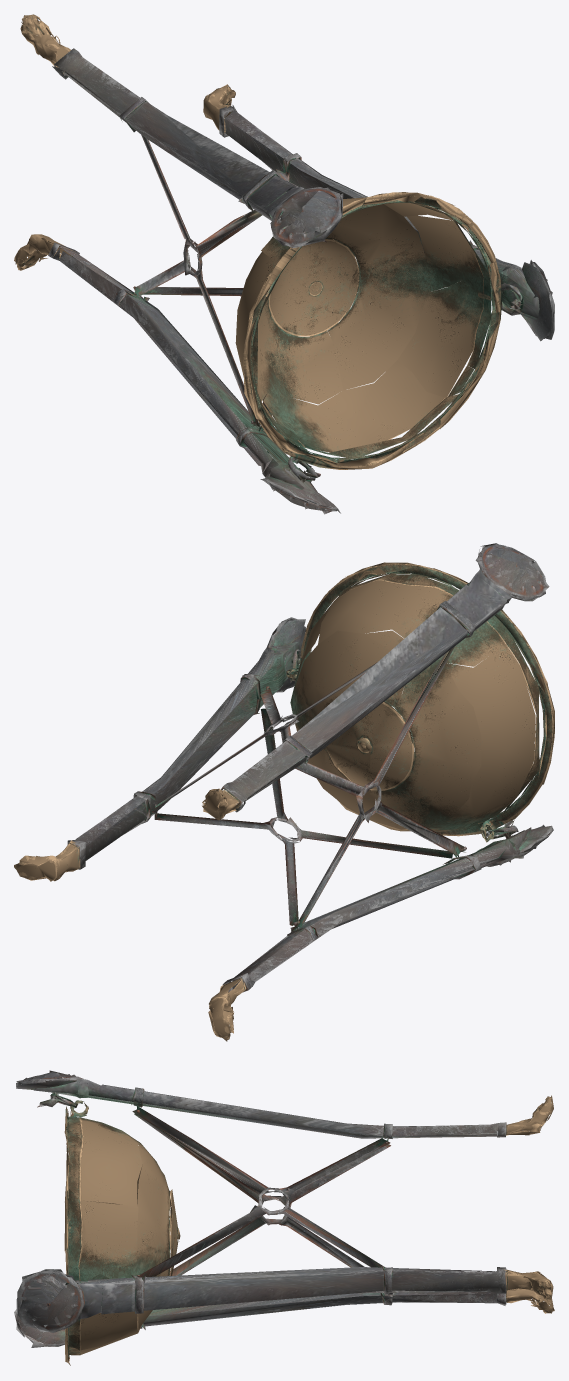
The model's file is brazier_notmybest3d.glb.
3 renders of one model, top to bottom at view 1: azimuth 30°, elevation 25°; view 2: azimuth 150°, elevation 25°; view 3: azimuth 270°, elevation 25°, orthographic. The views are drawn at different scales.
Parts seen in each view (by area): view 1: Roman_Brazier_LOW_DefaultMaterial_0; view 2: Roman_Brazier_LOW_DefaultMaterial_0; view 3: Roman_Brazier_LOW_DefaultMaterial_0.
Part boxes in pixels (box(x1,y1,x2,y2)): Roman_Brazier_LOW_DefaultMaterial_0: box(14, 14, 554, 514); Roman_Brazier_LOW_DefaultMaterial_0: box(14, 543, 554, 1041); Roman_Brazier_LOW_DefaultMaterial_0: box(14, 1070, 554, 1365).
Size of the model in its own units: 1.2 by 1.23 by 2.22.
1 material, 1 textured.
